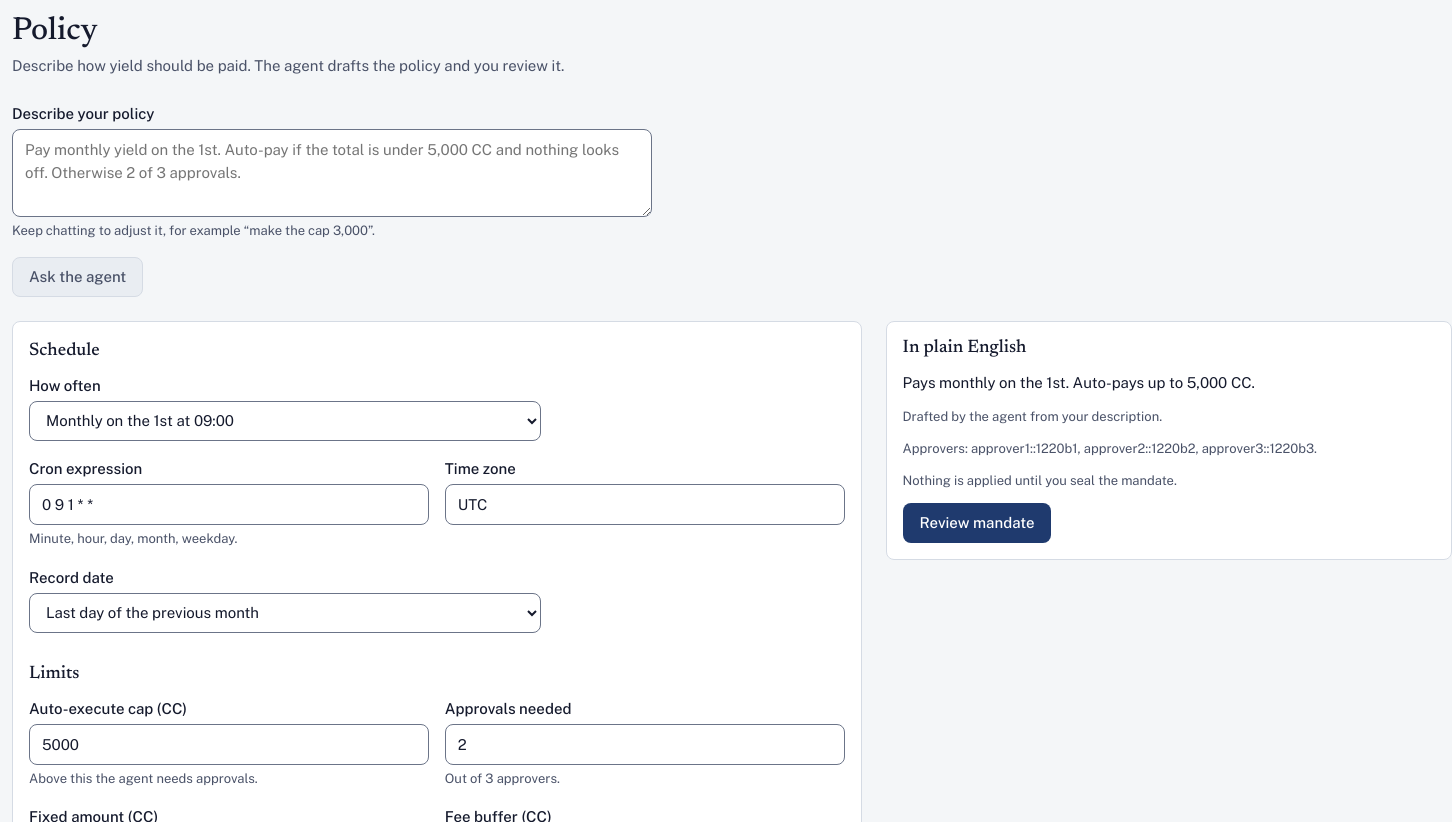
Test: setup policy page › flags a malformed field and does not save it
Replace the text in the field labelled "Auto-execute cap (CC)" with "lots" at point(229, 745), box x1=29 y1=724 x2=429 y2=765
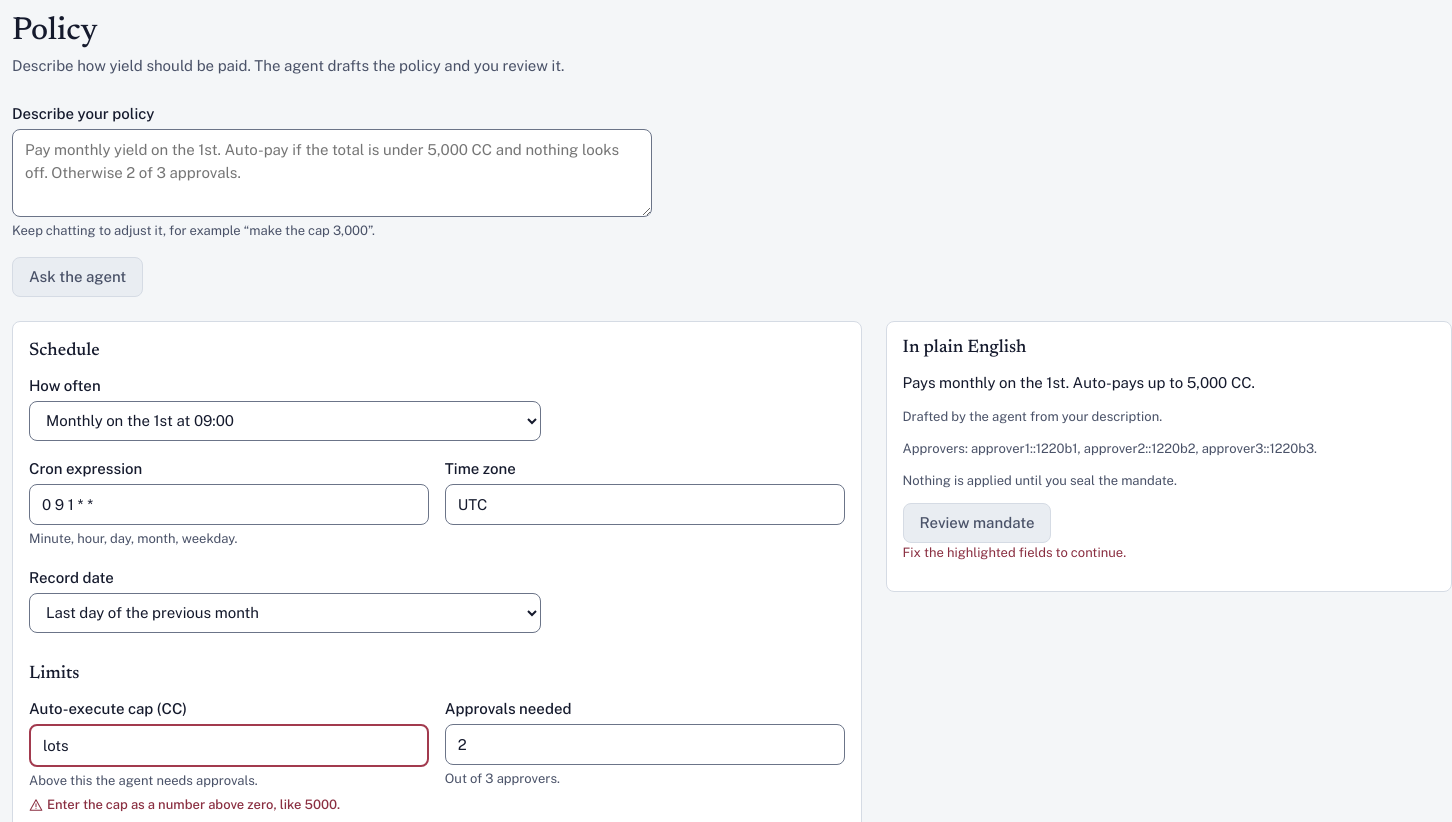
expect the text "Enter the cap as a number above zero, like 5000." is shown: met, box x1=47 y1=795 x2=340 y2=815
expect the button "Review mandate" is disabled: met, box x1=903 y1=503 x2=1052 y2=543
